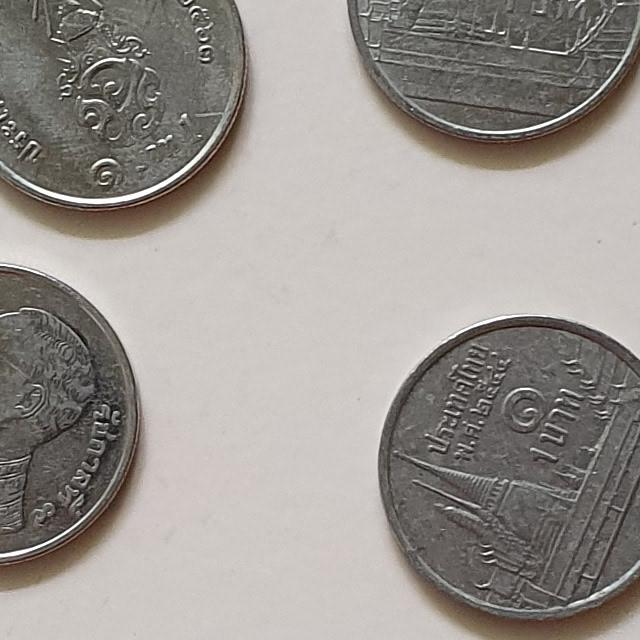1 Bath: (370, 308, 640, 628), (1, 1, 254, 221), (1, 259, 144, 577), (338, 1, 640, 150)
